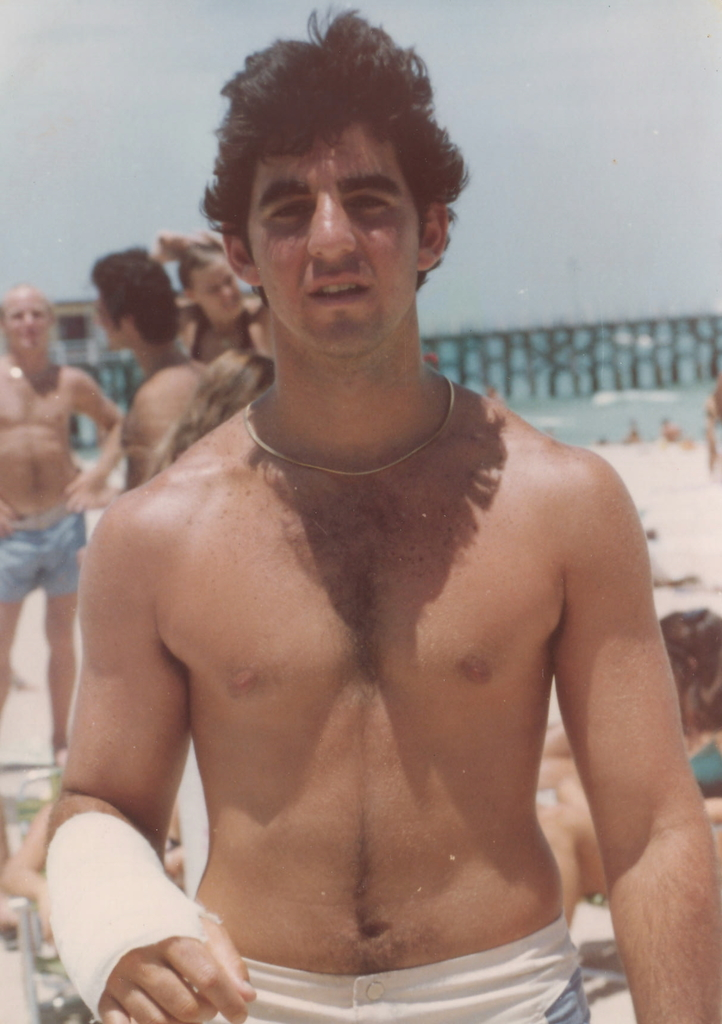Person: (0, 284, 127, 760), (535, 605, 722, 928), (79, 243, 210, 503), (159, 230, 247, 344)
